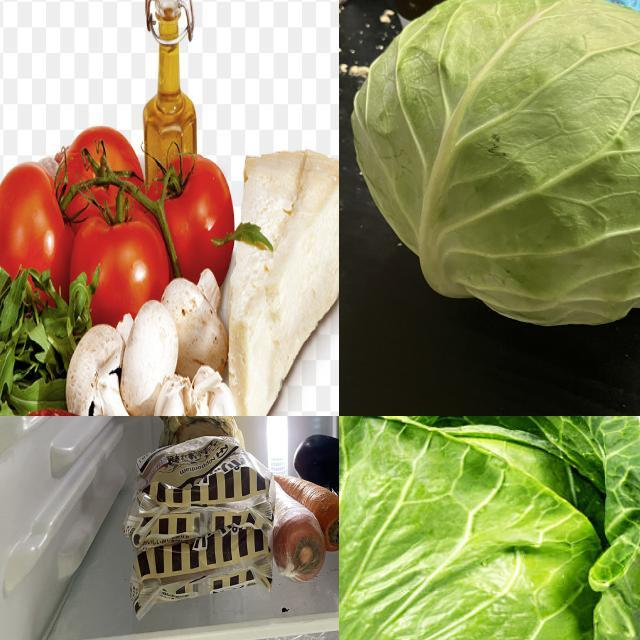cabbage: (347, 1, 640, 335), (340, 417, 640, 640)
carrot: (271, 478, 327, 580), (274, 475, 340, 549)
eggplant: (297, 437, 340, 491)
garlic: (153, 375, 238, 417)
onion: (155, 417, 246, 458)
tomato: (73, 210, 172, 316), (149, 155, 230, 271), (1, 166, 64, 296), (63, 131, 139, 217)
